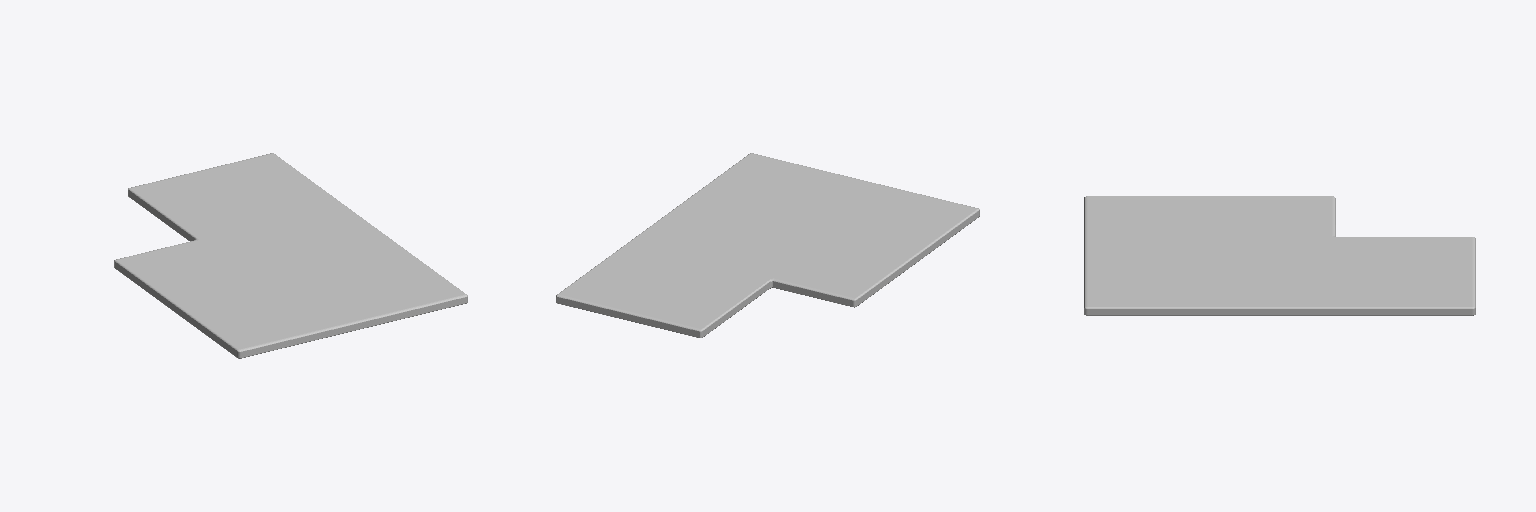
Rendered from track.obj.
The picture shows the model from 3 angles: view 1: azimuth 30°, elevation 25°; view 2: azimuth 150°, elevation 25°; view 3: azimuth 270°, elevation 25°; orthographic projection.
Parts seen in each view (by area): view 1: Cube; view 2: Cube; view 3: Cube.
Boxes of the visible parts, x1=… form: Cube: x1=114, y1=153, x2=467, y2=358; Cube: x1=556, y1=153, x2=979, y2=337; Cube: x1=1084, y1=196, x2=1475, y2=315.
Size of the model in its own units: 5.5 by 0.2 by 8.1.